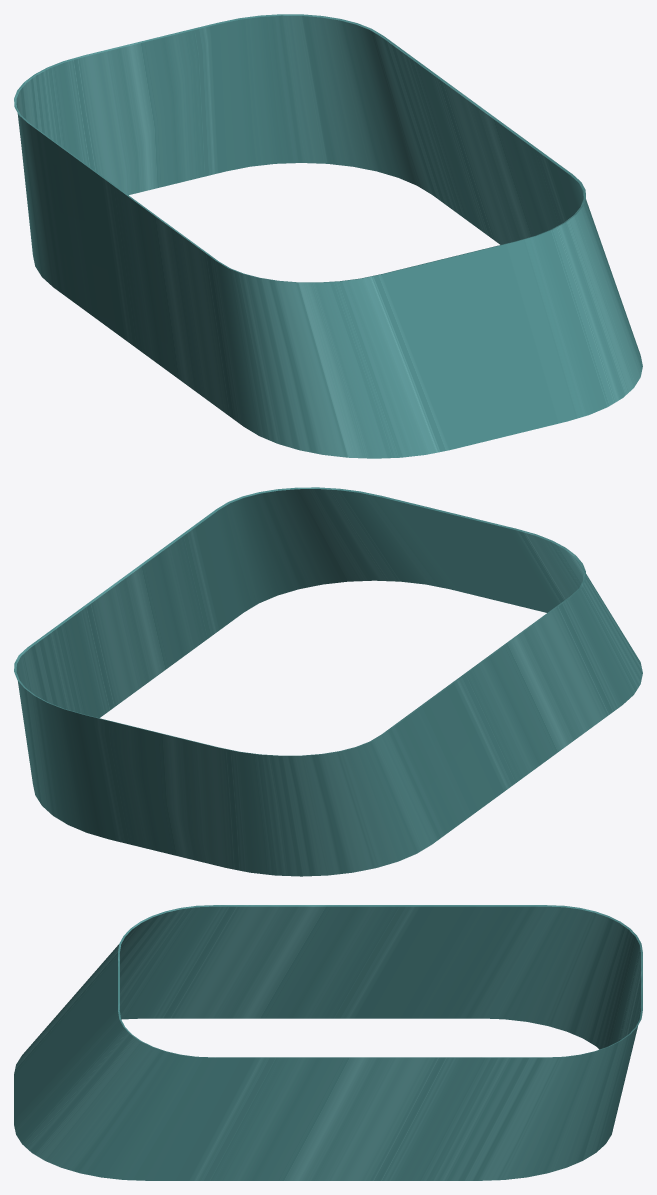
The model's file is PapWindshield.fbx.
The picture shows the model from 3 angles, top to bottom: view 1: azimuth 30°, elevation 25°; view 2: azimuth 150°, elevation 25°; view 3: azimuth 270°, elevation 25°; orthographic projection. The views are drawn at different scales.
Visible parts, largest first — view 1: windshield; view 2: windshield; view 3: windshield.
Part boxes in pixels (x1,y1,x2,y2): windshield: [14, 14, 642, 458]; windshield: [14, 487, 642, 876]; windshield: [14, 905, 642, 1180].
Bounding box in the file's own units: 7.12 × 2.42 × 11.66.
